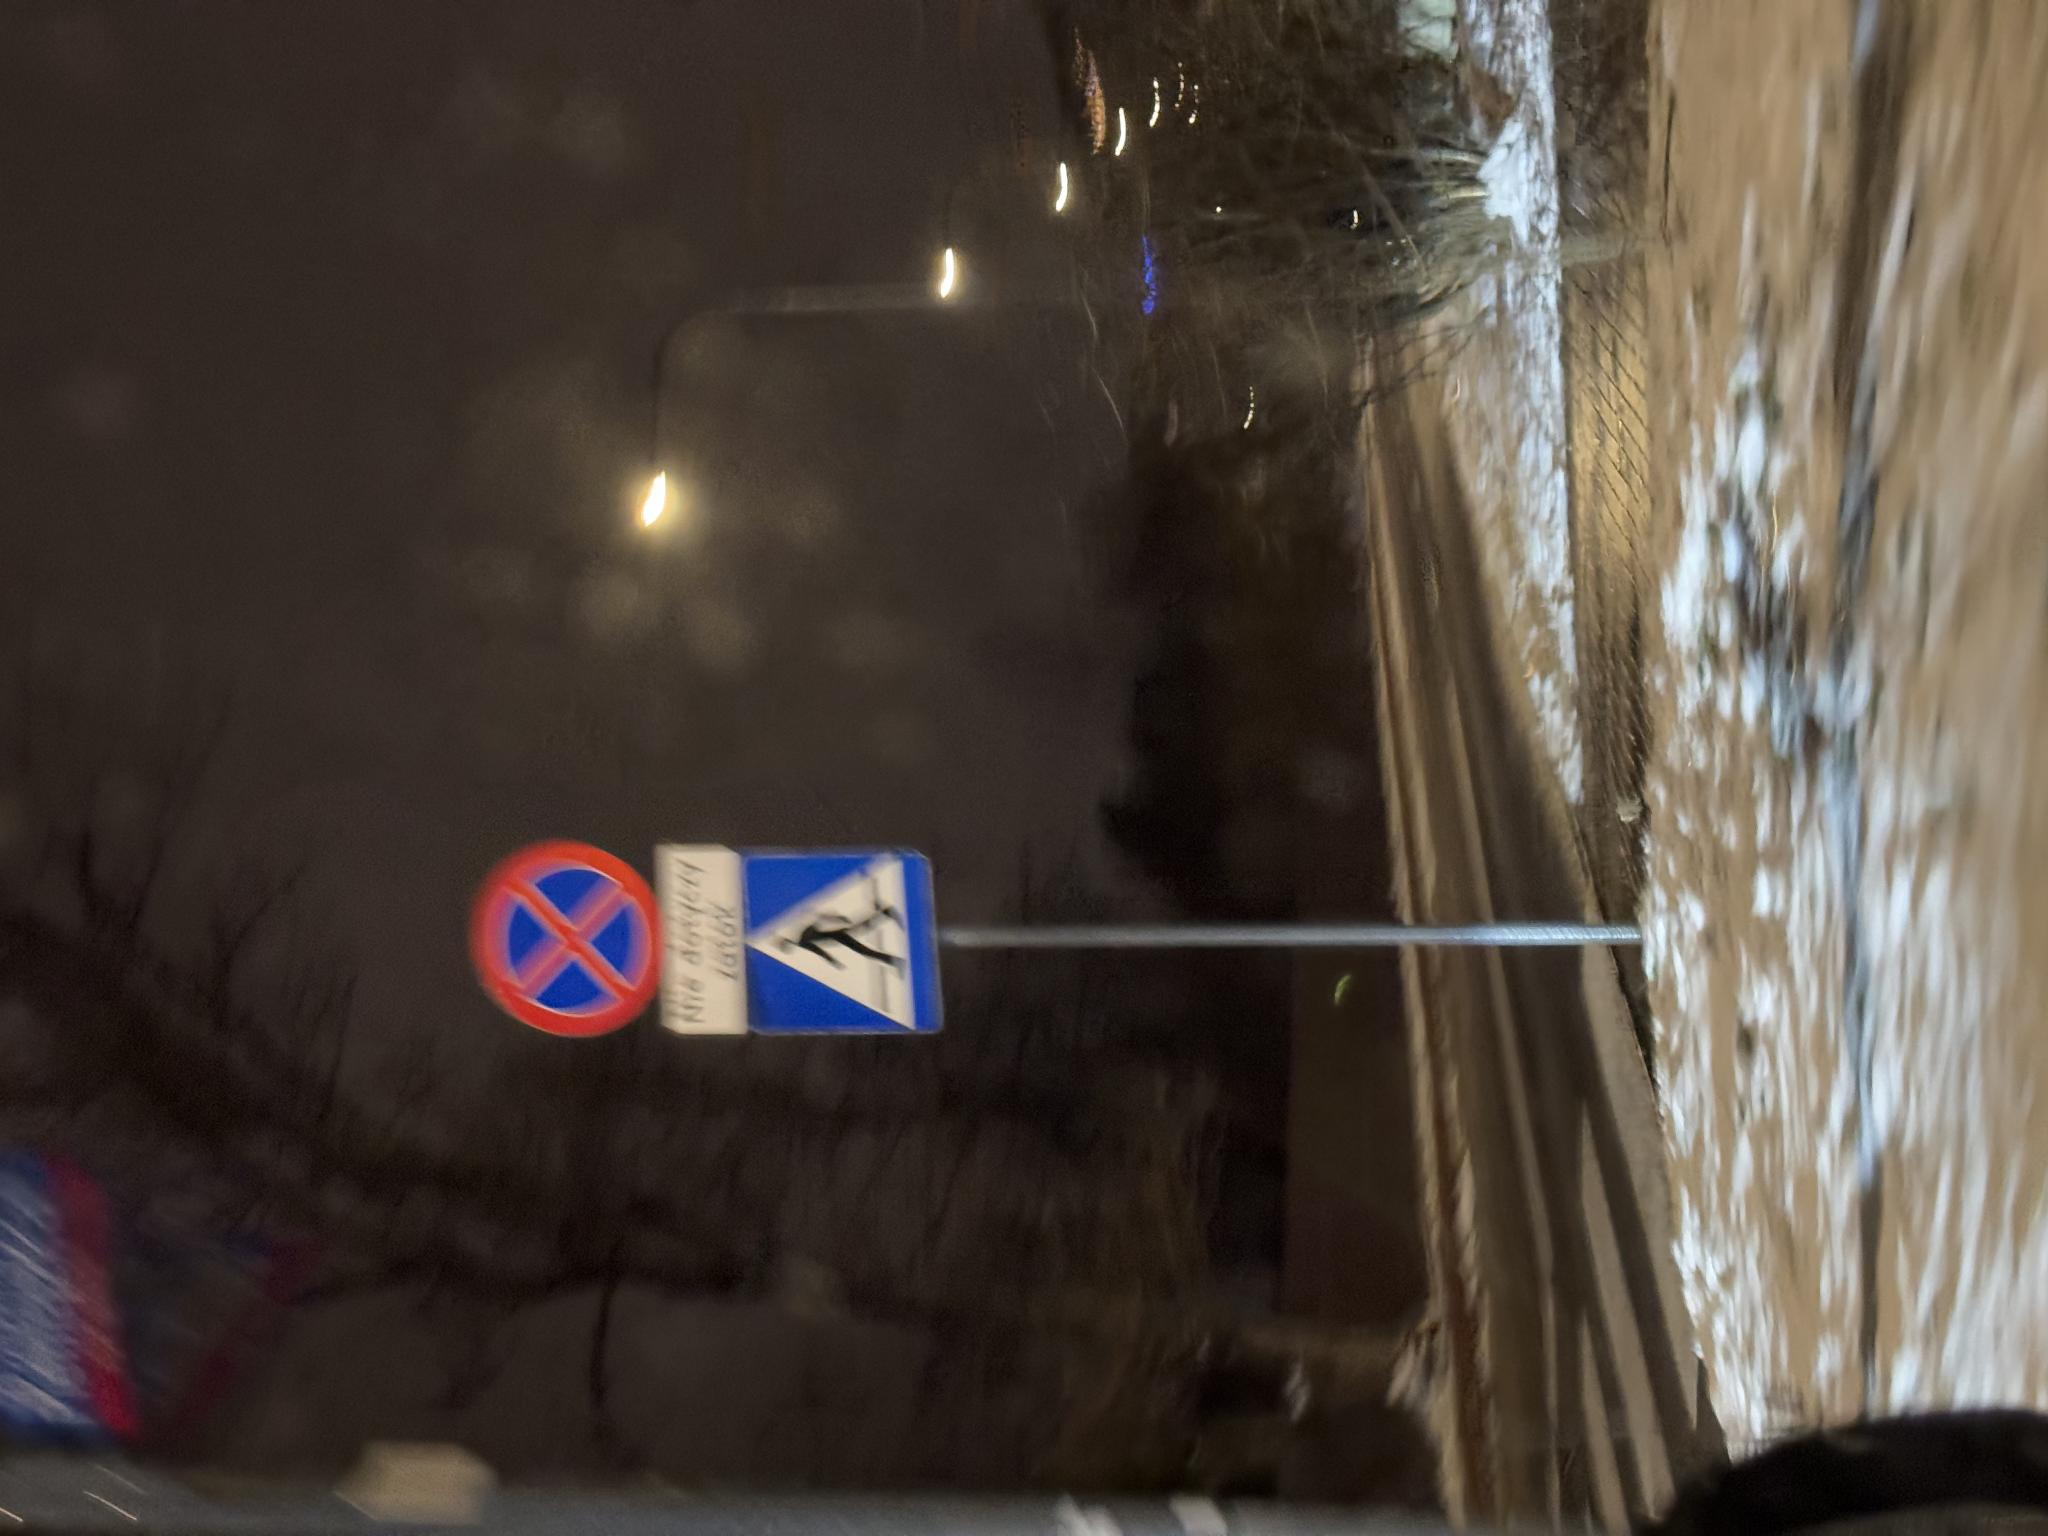information: (500, 741, 685, 942)
other: (505, 662, 693, 749)
prohibitory: (498, 468, 698, 662)
